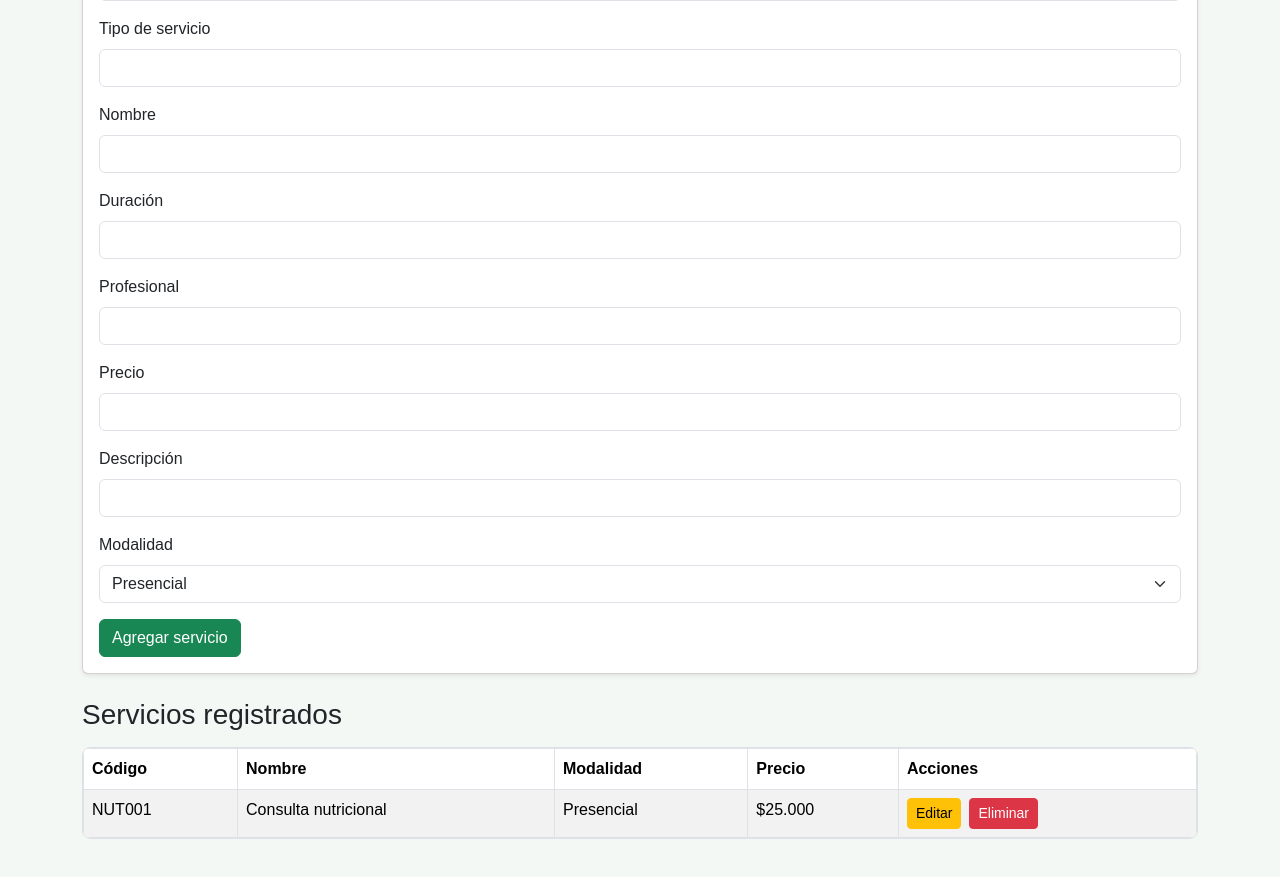
Test: Administración de servicios de NutriVida › rechaza un formulario con campos vacíos
The width and height of the screenshot is (1280, 877).
(page scrolled)
Click the button "Agregar servicio" at (170, 638), box [99,619,241,657]
(page scrolled)
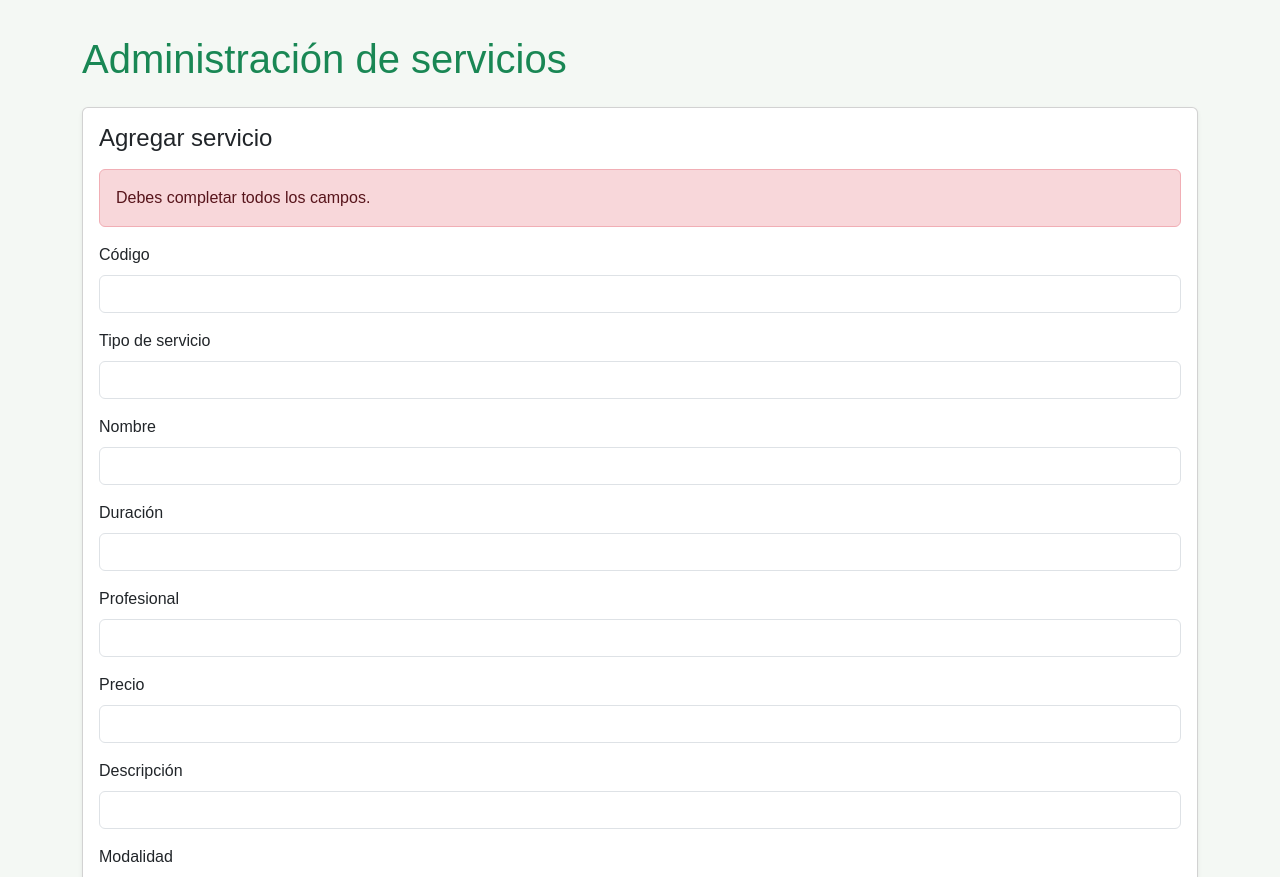
expect the text "Debes completar todos los campos." is shown: met, box [99,169,1181,227]
